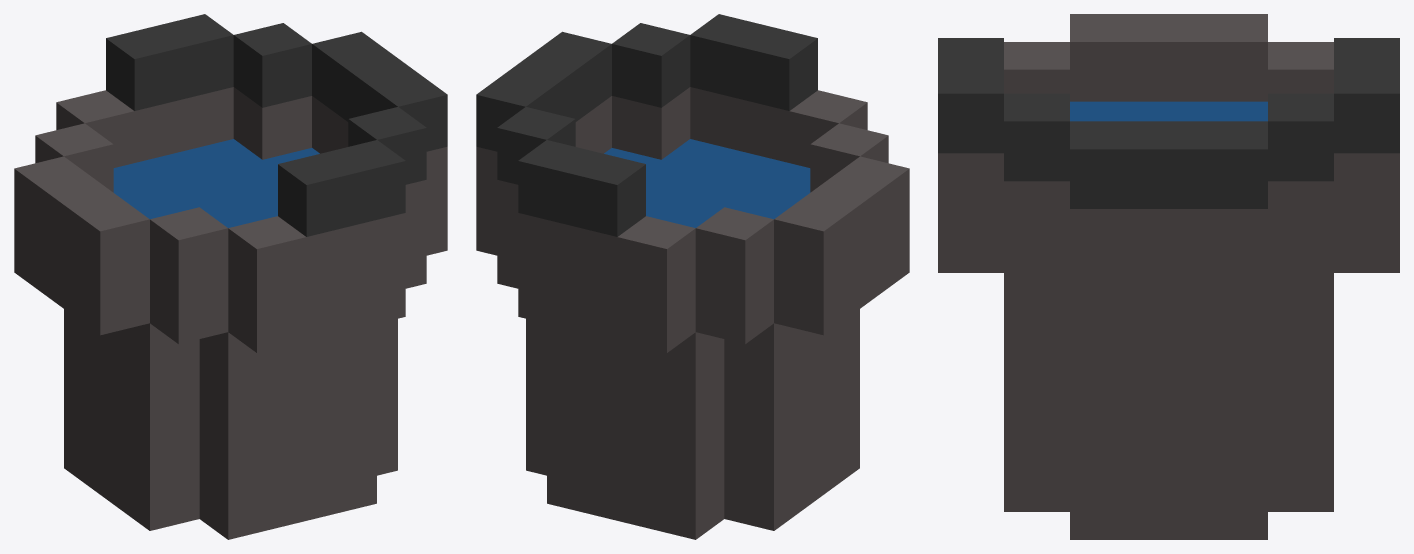
File: Balde Cheio.obj
3 views of the same model, side by side, from view 1: azimuth 30°, elevation 25°; view 2: azimuth 150°, elevation 25°; view 3: azimuth 270°, elevation 25° (orthographic). The views are drawn at different scales.
Bounding box in the file's own units: 0.7 × 0.7 × 0.7.
1 material, 1 textured.
